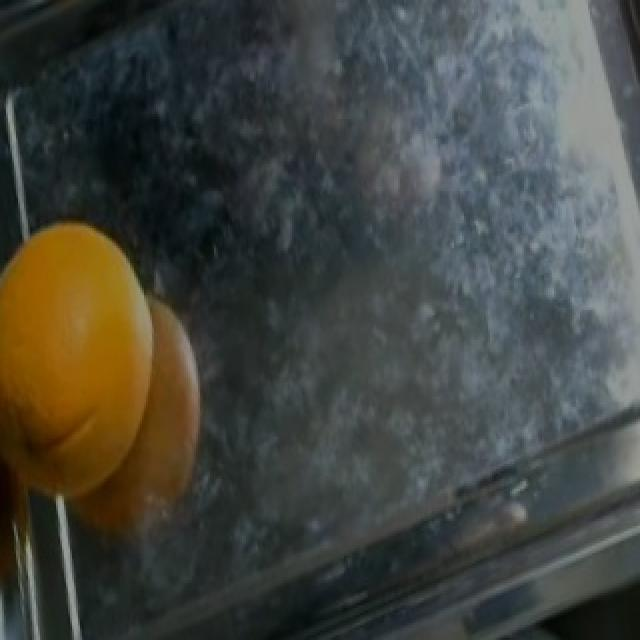Fruit: (0, 206, 172, 528)
